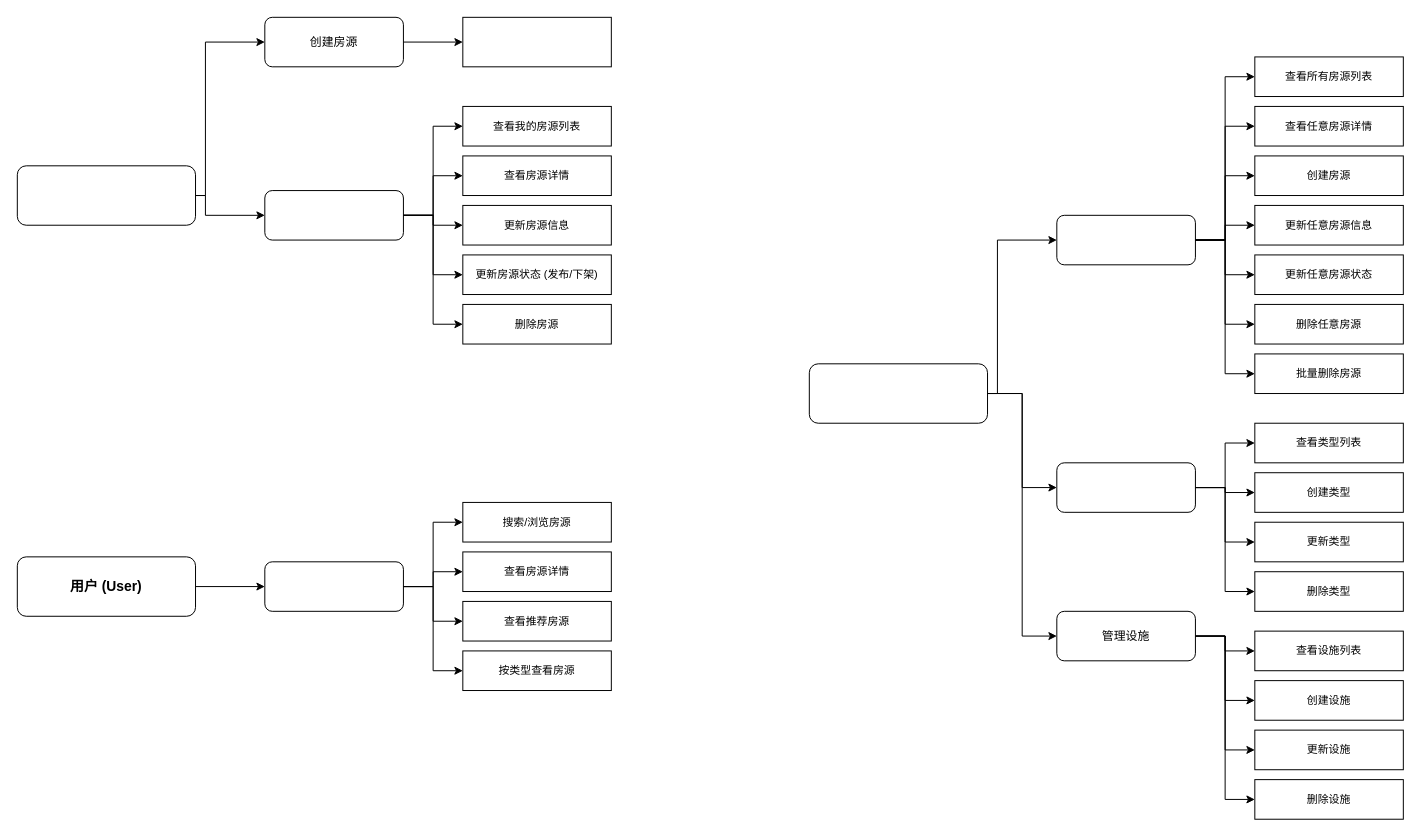
The diagram is 1421 pixels wide and 837 high, and some of its shapes have lost their labels. Each missing label, with the centre of its shape:
"填写房源信息并提交" goes at point 536,41.
"房东 (Host)" goes at point 106,195.
"浏览与搜索" goes at point 333,586.
"管理员 (Admin)" goes at point 898,393.
"管理我的房源" goes at point 333,215.
"管理房源类型" goes at point 1125,487.
"管理所有房源" goes at point 1125,239.
